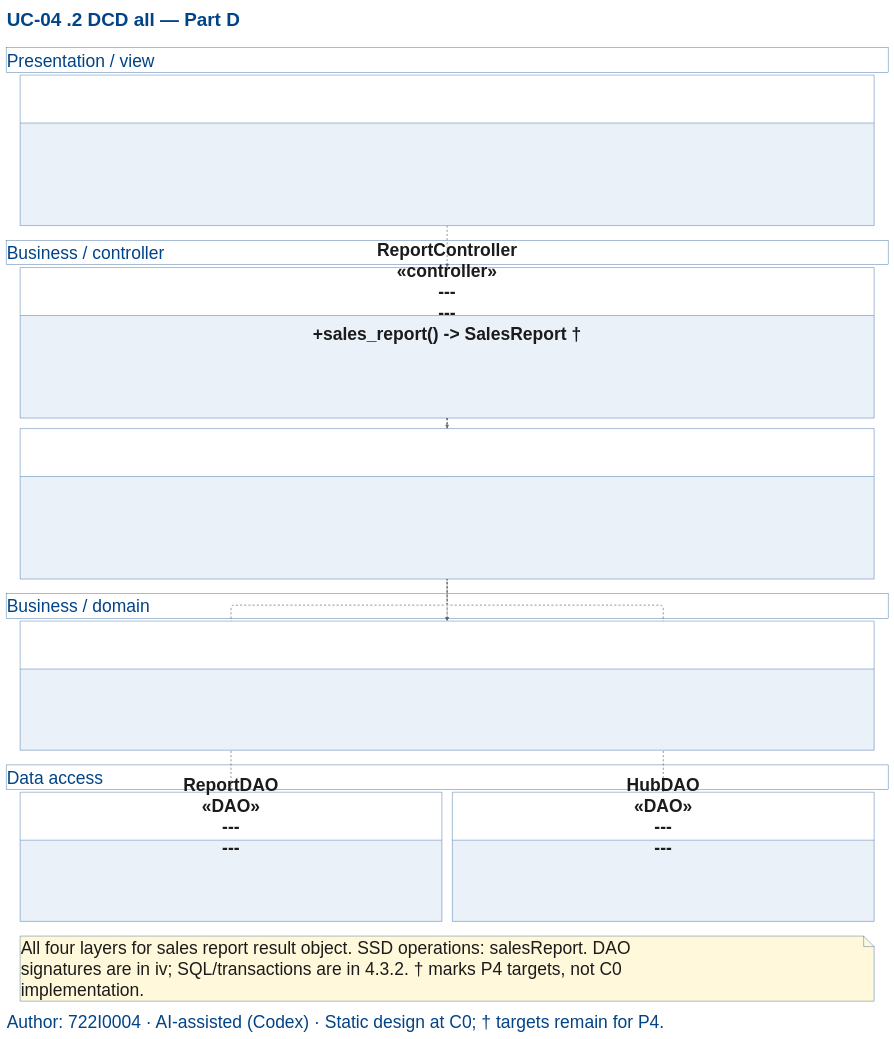
The diagram is 894 pixels wide and 1039 high, and some of its shapes have lost their labels. The box of each missing label's shape, as (x1, y1, x2, y2) in pixels:
Hub «entity» --- ---: (20, 621, 874, 750)
reports «view» --- --- +sales() * †: (20, 75, 874, 226)
SalesReport «value» --- +top_items: list[tuple[int, str, int, int]] † ---: (20, 428, 874, 579)
